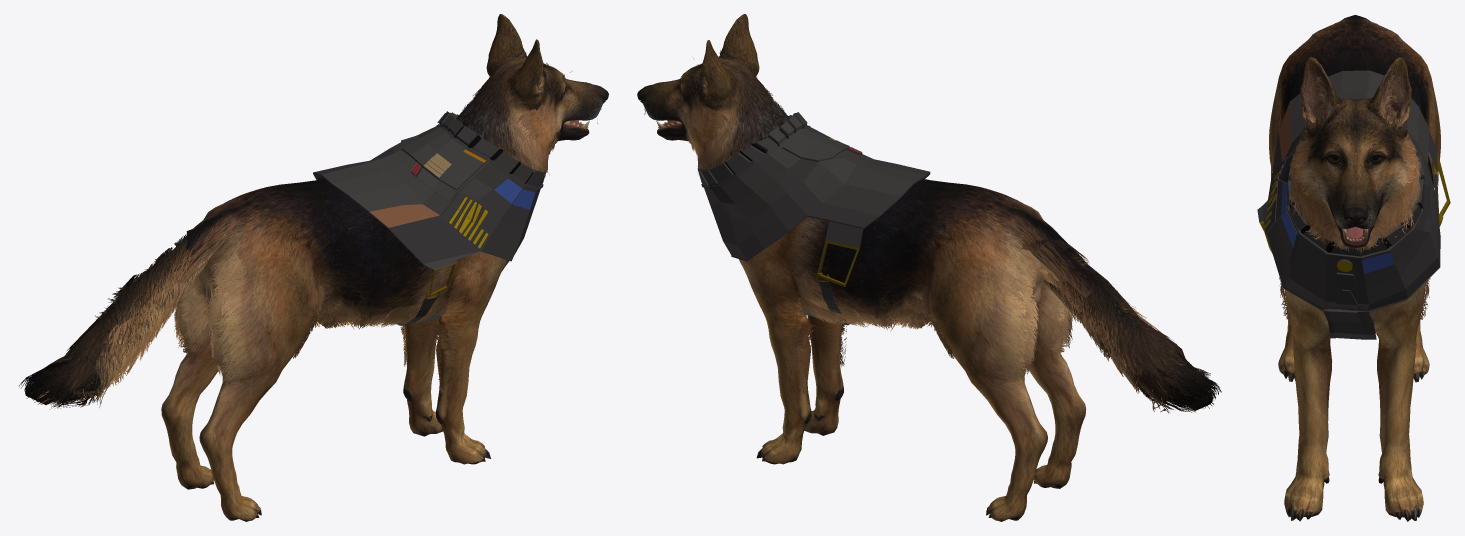
The model's file is german shepherd fbx.fbx.
The picture shows the model from 3 angles, left to right: view 1: azimuth 30°, elevation 25°; view 2: azimuth 150°, elevation 25°; view 3: azimuth 270°, elevation 25°; orthographic projection. The views are drawn at different scales.
Parts seen in each view (by area): view 1: German_Shepherd8:Mesh, German_Shepherd9:Mesh, pasted__polySurface2; view 2: German_Shepherd8:Mesh, German_Shepherd9:Mesh, pasted__polySurface2; view 3: German_Shepherd8:Mesh, pasted__polySurface2, German_Shepherd9:Mesh, German_Shepherd6:Mesh.
Boxes of the visible parts, left/top/right/bottom form: German_Shepherd8:Mesh: left=25, top=14, right=608, bottom=521; German_Shepherd9:Mesh: left=19, top=50, right=601, bottom=409; pasted__polySurface2: left=313, top=111, right=546, bottom=325; German_Shepherd8:Mesh: left=637, top=14, right=1212, bottom=521; German_Shepherd9:Mesh: left=644, top=50, right=1221, bottom=413; pasted__polySurface2: left=697, top=112, right=930, bottom=325; German_Shepherd8:Mesh: left=1269, top=15, right=1440, bottom=521; pasted__polySurface2: left=1257, top=70, right=1450, bottom=339; German_Shepherd9:Mesh: left=1271, top=23, right=1438, bottom=338; German_Shepherd6:Mesh: left=1342, top=226, right=1367, bottom=243.
Size of the model in its own units: 7.34 by 4.76 by 1.67.
